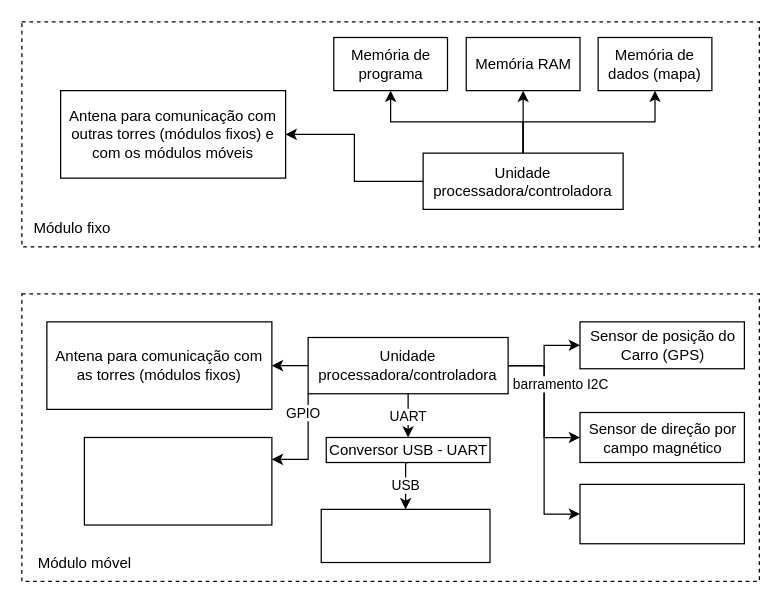
The diagram is 781 pixels wide and 604 high, and some of its shapes have lost their labels. Here are the shapes that lost their labels. From the top down, the centre of each, then its label:
At (x=177, y=480): "Reprodutor som para aviso sonoro".
At (x=661, y=513): "Display de informações/velocidade sugerida".
At (x=405, y=535): "Sensor de velocidade do Carro via porta OBD2".
